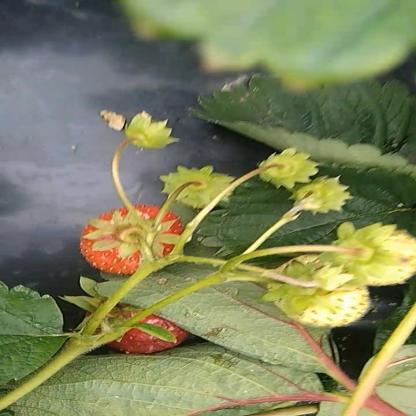ripe: (78, 204, 187, 277), (110, 309, 188, 353)
unripe: (268, 264, 374, 326), (331, 226, 416, 287)
